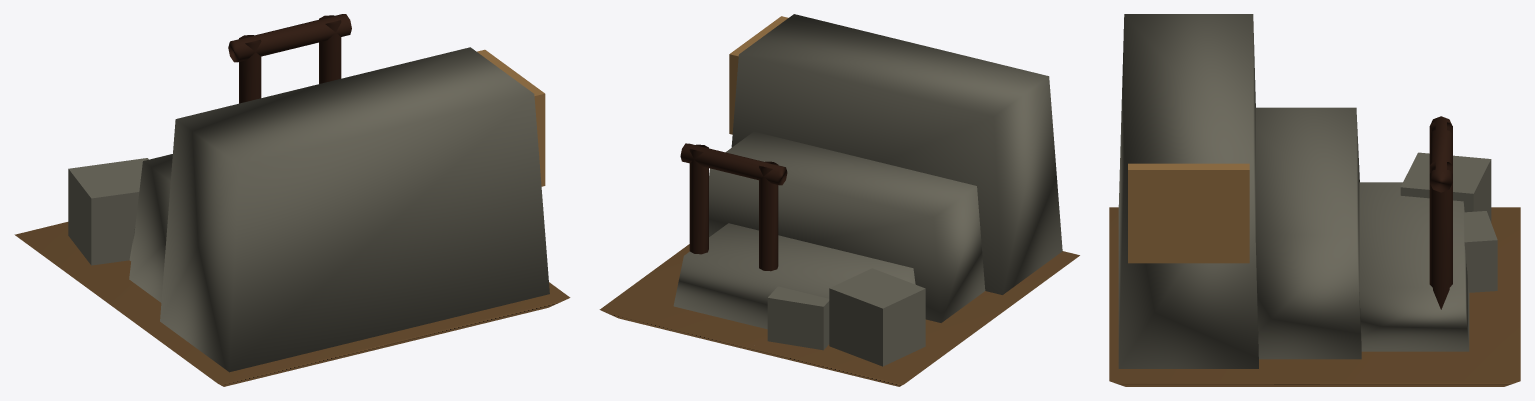
Rendered from R49_HAN_LUOYANG_QUARRY_TERRACE_A.fbx.
3 renders of one model, left to right at view 1: azimuth 30°, elevation 25°; view 2: azimuth 150°, elevation 25°; view 3: azimuth 270°, elevation 25°, orthographic. The views are drawn at different scales.
Visible parts, largest first — view 1: bench_rear, ground, stone_block_a, bench_middle, rack_beam, cut_face, rack_post_w, rack_post_e; view 2: bench_rear, bench_middle, ground, bench_front, stone_block_a, stone_block_b, rack_beam, rack_post_w, rack_post_e, cut_face; view 3: bench_rear, bench_middle, ground, bench_front, cut_face, stone_block_a, rack_post_w, stone_block_b, rack_beam.
Part boxes in pixels (x1=…): bench_rear: x1=160, y1=47, x2=549, y2=372; ground: x1=14, y1=222, x2=570, y2=386; stone_block_a: x1=68, y1=158, x2=148, y2=265; bench_middle: x1=129, y1=154, x2=172, y2=302; rack_beam: x1=228, y1=14, x2=351, y2=62; cut_face: x1=477, y1=49, x2=545, y2=186; rack_post_w: x1=319, y1=15, x2=341, y2=83; rack_post_e: x1=239, y1=35, x2=261, y2=103; bench_rear: x1=731, y1=14, x2=1062, y2=294; bench_middle: x1=709, y1=131, x2=985, y2=322; ground: x1=599, y1=244, x2=1079, y2=386; bench_front: x1=673, y1=223, x2=915, y2=343; stone_block_a: x1=829, y1=268, x2=925, y2=366; stone_block_b: x1=767, y1=286, x2=829, y2=350; rack_beam: x1=680, y1=143, x2=787, y2=185; rack_post_w: x1=689, y1=144, x2=708, y2=254; rack_post_e: x1=759, y1=161, x2=778, y2=271; cut_face: x1=729, y1=16, x2=788, y2=134; bench_rear: x1=1118, y1=14, x2=1258, y2=368; bench_middle: x1=1255, y1=107, x2=1361, y2=359; ground: x1=1109, y1=207, x2=1520, y2=386; bench_front: x1=1359, y1=182, x2=1469, y2=351; cut_face: x1=1128, y1=163, x2=1249, y2=263; stone_block_a: x1=1400, y1=152, x2=1491, y2=222; rack_post_w: x1=1429, y1=162, x2=1452, y2=309; stone_block_b: x1=1464, y1=211, x2=1497, y2=292; rack_beam: x1=1429, y1=116, x2=1452, y2=192.
Size of the model in its own units: 88 by 52 by 88.
